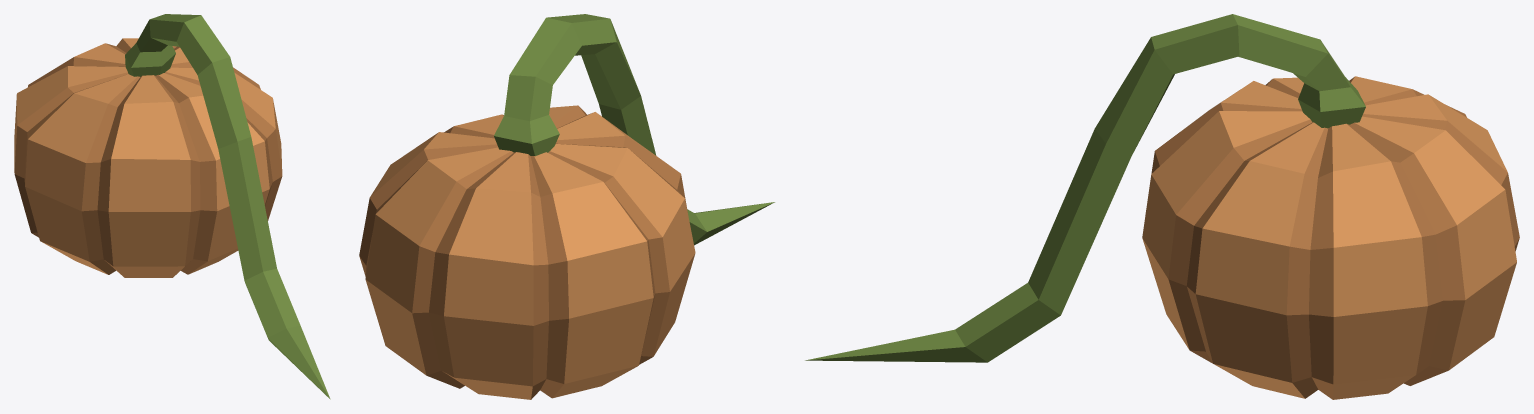
The model's file is SM_Prop_Pumpkin_01_M.glb.
The picture shows the model from 3 angles, left to right: view 1: azimuth 30°, elevation 25°; view 2: azimuth 150°, elevation 25°; view 3: azimuth 270°, elevation 25°; orthographic projection. The views are drawn at different scales.
Visible parts, largest first — view 1: SM_Prop_Pumpkin_01_M; view 2: SM_Prop_Pumpkin_01_M; view 3: SM_Prop_Pumpkin_01_M.
Boxes of the visible parts, x1,y1,x2,y2 form: SM_Prop_Pumpkin_01_M: [14, 14, 330, 399]; SM_Prop_Pumpkin_01_M: [359, 14, 774, 399]; SM_Prop_Pumpkin_01_M: [805, 14, 1519, 399].
Bounding box in the file's own units: 0.3407 × 0.3544 × 0.6469.
1 material, 1 textured.
